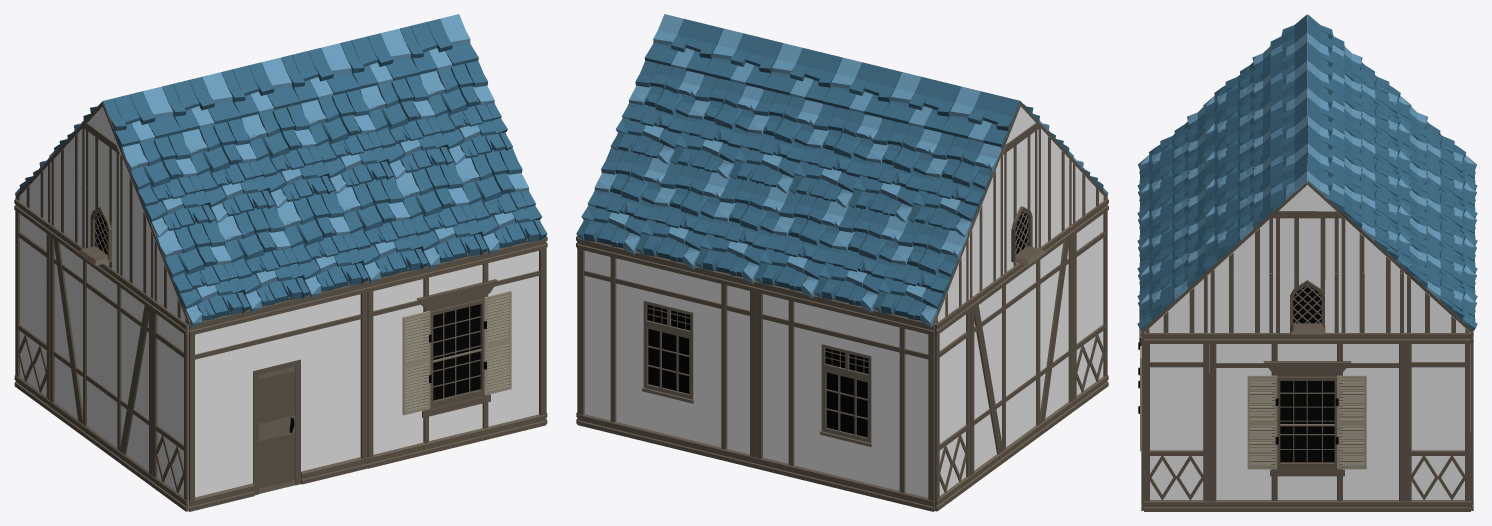
Rendered from House_01_full.glb.
The picture shows the model from 3 angles, left to right: view 1: azimuth 30°, elevation 25°; view 2: azimuth 150°, elevation 25°; view 3: azimuth 270°, elevation 25°; orthographic projection. The views are drawn at different scales.
Visible parts, largest first — view 1: WINDOW_07_4, DOOR_05_2, WALL_02_2, WALL_01_1.003, WALL_01_1.002, ROOF_base_1.017, ROOF_base_1.023, ROOF_base_1.013, ROOF_base_1.015, ROOF_base_1.012, ROOF_base_1.016, ROOF_base_1.014 (+20 smaller); view 2: WINDOW_03_1.001, WINDOW_03_1, WALL_02_2, WALL_01_1.002, WALL_01_1.003, ROOF_base_1.005, ROOF_base_1.011, ROOF_base_1.001, ROOF_base_1, ROOF_base_1.003, ROOF_base_1.004, ROOF_base_1.002 (+19 smaller); view 3: WINDOW_07_3, WALL_01_1, WALL_01_1.001, ROOF_triangle_window_grid_9, ROOF_up_quad_2, ROOF_up_quad_3, ROOF_up_quad_4, ROOF_base_1.006, ROOF_base_1.018, ROOF_base_1, ROOF_base_1.012, ROOF_trinagle_left_wood_2 (+38 smaller).
Part boxes in pixels (box(x1,y1,x2,y2)): WINDOW_07_4: box(367, 237, 546, 468); DOOR_05_2: box(188, 281, 368, 511); WALL_02_2: box(48, 224, 153, 486); WALL_01_1.003: box(151, 299, 188, 511); WALL_01_1.002: box(14, 199, 50, 410); ROOF_base_1.017: box(154, 220, 249, 327); ROOF_base_1.023: box(120, 133, 215, 237); ROOF_base_1.013: box(393, 162, 487, 269); ROOF_base_1.015: box(275, 191, 368, 298); ROOF_base_1.012: box(453, 147, 547, 255); ROOF_base_1.016: box(215, 205, 309, 313); ROOF_base_1.014: box(334, 176, 428, 283); WINDOW_03_1.001: box(755, 281, 934, 511); WINDOW_03_1: box(577, 237, 756, 468); WALL_02_2: box(969, 224, 1074, 485); WALL_01_1.002: box(935, 299, 971, 511); WALL_01_1.003: box(1072, 199, 1108, 410); ROOF_base_1.005: box(873, 220, 968, 327); ROOF_base_1.011: box(907, 133, 1003, 236); ROOF_base_1.001: box(635, 162, 729, 269); ROOF_base_1: box(576, 147, 670, 254); ROOF_base_1.003: box(754, 191, 848, 298); ROOF_base_1.004: box(814, 205, 907, 312); ROOF_base_1.002: box(695, 176, 788, 283); WINDOW_07_3: box(1209, 333, 1405, 511); WALL_01_1: box(1405, 333, 1470, 511); WALL_01_1.001: box(1144, 333, 1209, 511); ROOF_triangle_window_grid_9: box(1274, 273, 1340, 334); ROOF_up_quad_2: box(1209, 273, 1274, 332); ROOF_up_quad_3: box(1340, 273, 1405, 332); ROOF_up_quad_4: box(1274, 218, 1340, 273); ROOF_base_1.006: box(1340, 185, 1411, 273); ROOF_base_1.018: box(1203, 185, 1274, 273); ROOF_base_1: box(1405, 245, 1477, 332); ROOF_base_1.012: box(1137, 245, 1208, 332); ROOF_trinagle_left_wood_2: box(1144, 274, 1209, 332).
Size of the model in its own units: 6.56 by 5.59 by 5.2.
1 material, 1 textured.
